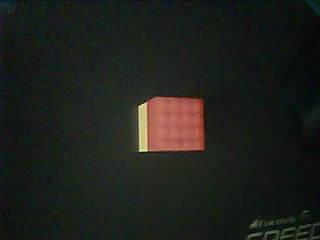lego: (138, 96, 205, 151)
